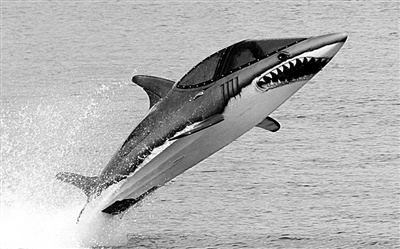fish: (67, 26, 350, 211)
